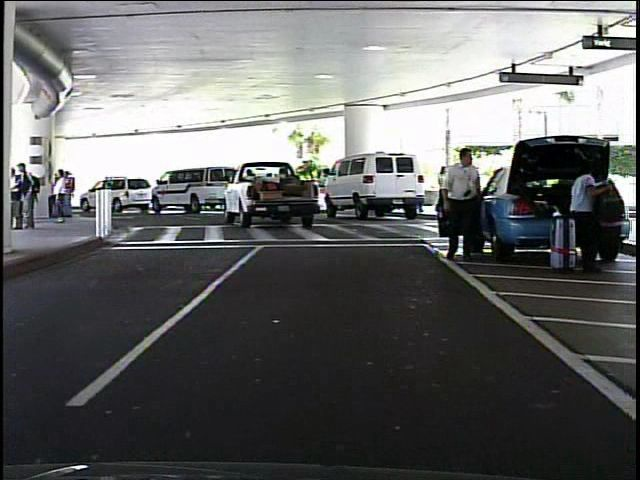person: (432, 142, 482, 264), (559, 162, 610, 274)
